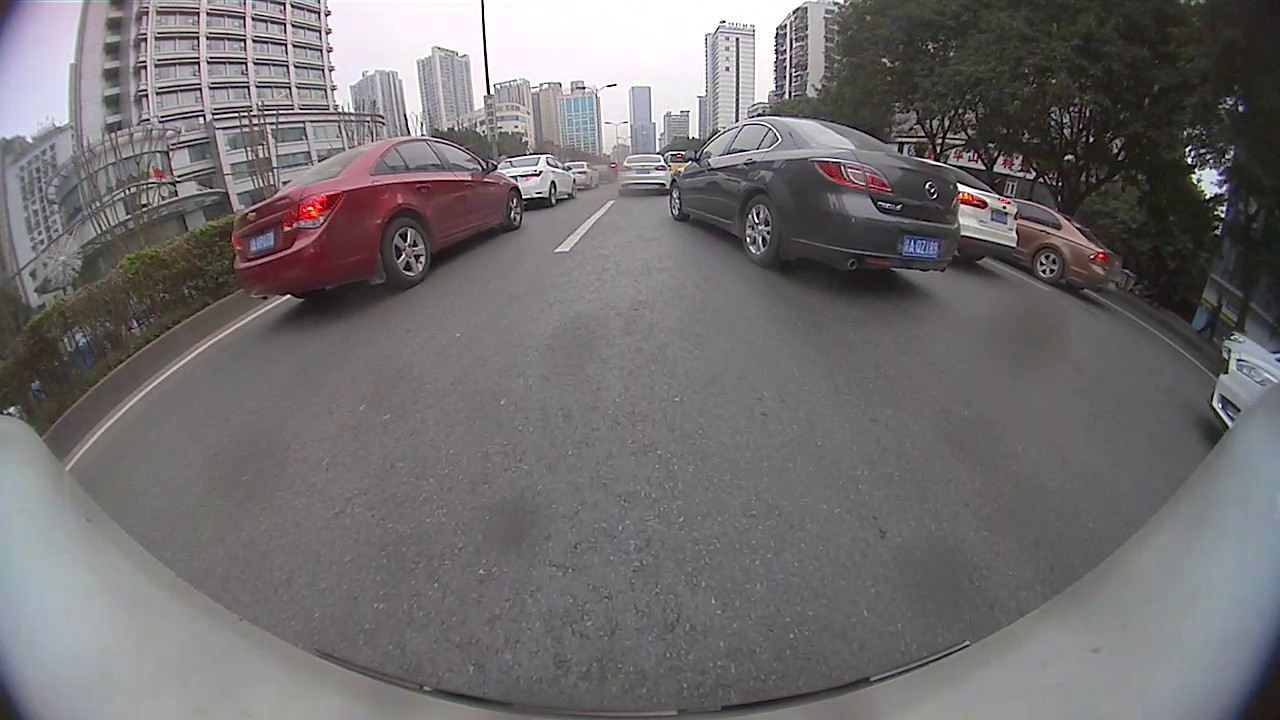car: (665, 116, 965, 279), (237, 132, 522, 296), (1008, 198, 1126, 295), (920, 159, 1021, 266), (1208, 350, 1279, 432), (499, 155, 583, 208), (615, 155, 673, 197)
front: (669, 181, 685, 220), (507, 193, 521, 231)
rear: (381, 215, 432, 286), (742, 193, 779, 265), (1031, 247, 1065, 286), (549, 181, 557, 203)
